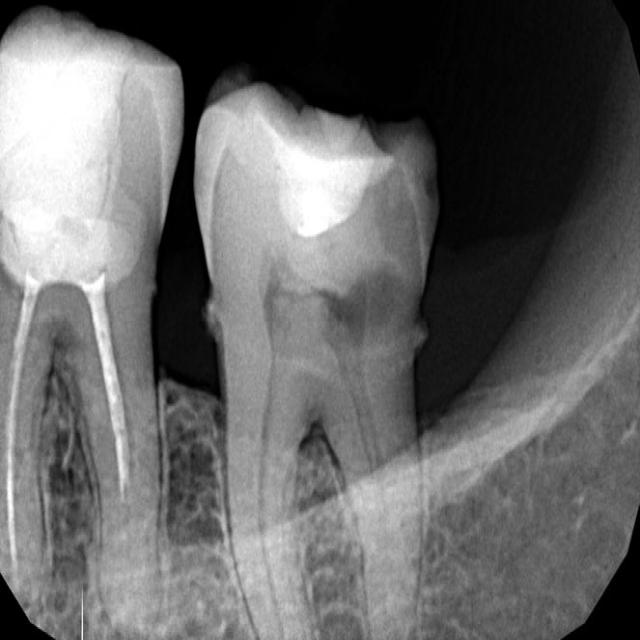Caries: (195, 64, 440, 640)
